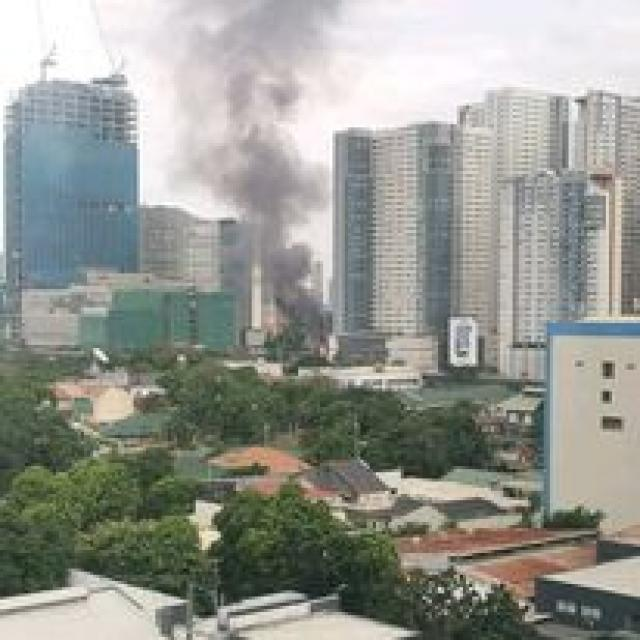Smoke: (192, 0, 330, 234), (260, 234, 318, 316)
